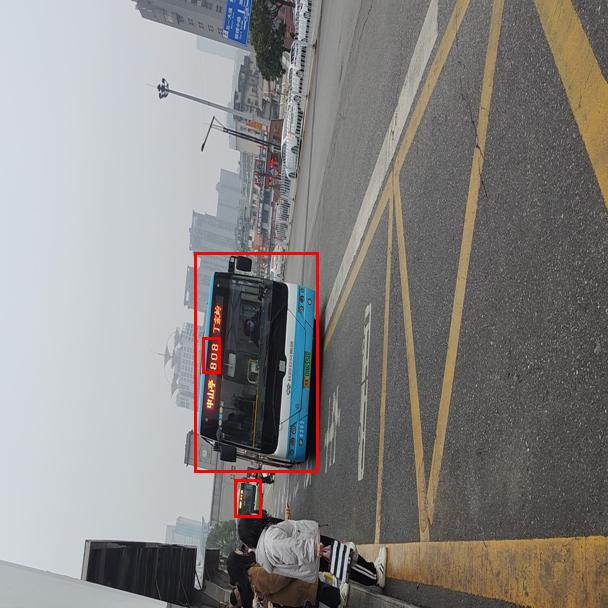bus: (194, 252, 318, 472), (234, 479, 261, 517)
screen: (202, 337, 220, 373)
